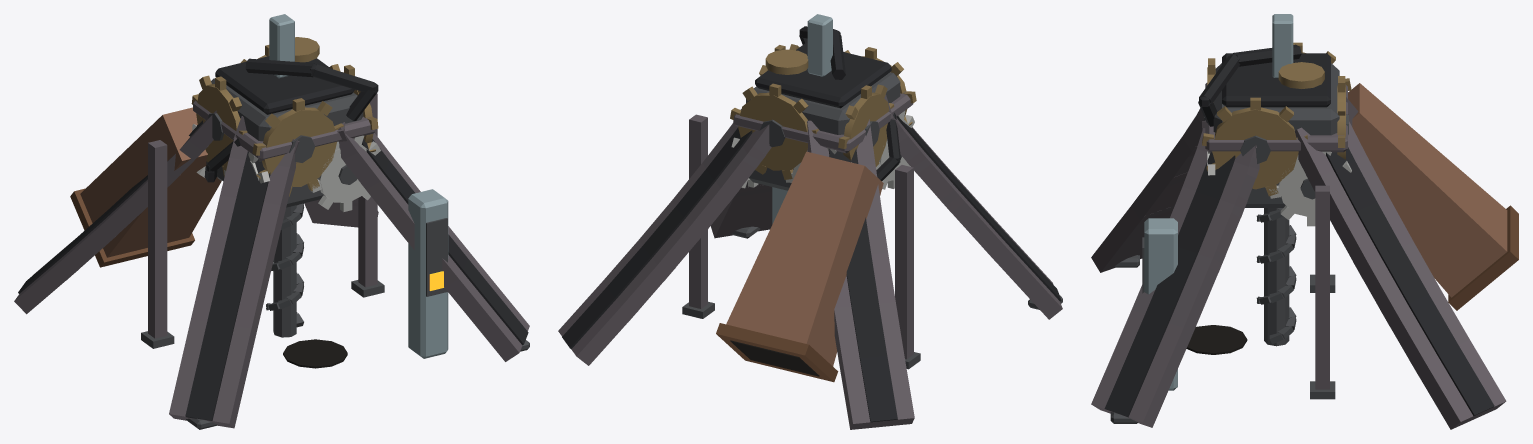
The model's file is burner-mining-drill.glb.
3 views of the same model, side by side, from view 1: azimuth 30°, elevation 25°; view 2: azimuth 150°, elevation 25°; view 3: azimuth 270°, elevation 25° (orthographic). The views are drawn at different scales.
Parts seen in each view (by area): view 1: body, anim_gear_bmd_ns_00, anim_spin_drill, anim_gear_bmd_ew_30, anim_gear_bmd_r_ns_01, anim_slide_bmd_rod, anim_gear_bmd_ew_10; view 2: body, anim_gear_bmd_ns_20, anim_gear_bmd_ew_30, anim_slide_bmd_rod, anim_gear_bmd_r_ew_31, anim_gear_bmd_ns_00; view 3: body, anim_gear_bmd_ew_10, anim_spin_drill, anim_gear_bmd_r_ew_11, anim_slide_bmd_rod, anim_gear_bmd_ns_20.
Boxes of the visible parts, bbox=[...] form: body: bbox=[14, 37, 529, 429]; anim_gear_bmd_ns_00: bbox=[252, 98, 343, 196]; anim_spin_drill: bbox=[266, 203, 304, 337]; anim_gear_bmd_ew_30: bbox=[191, 75, 247, 176]; anim_gear_bmd_r_ns_01: bbox=[310, 135, 380, 211]; anim_slide_bmd_rod: bbox=[269, 14, 294, 78]; anim_gear_bmd_ew_10: bbox=[329, 64, 378, 152]; body: bbox=[558, 26, 1062, 429]; anim_gear_bmd_ns_20: bbox=[730, 83, 818, 179]; anim_gear_bmd_ew_30: bbox=[838, 84, 894, 166]; anim_slide_bmd_rod: bbox=[807, 14, 832, 76]; anim_gear_bmd_r_ew_31: bbox=[876, 110, 914, 189]; anim_gear_bmd_ns_00: bbox=[844, 47, 916, 125]; body: bbox=[1091, 44, 1518, 429]; anim_gear_bmd_ew_10: bbox=[1202, 97, 1307, 196]; anim_spin_drill: bbox=[1256, 208, 1296, 346]; anim_gear_bmd_r_ew_11: bbox=[1269, 151, 1351, 226]; anim_slide_bmd_rod: bbox=[1272, 14, 1293, 77]; anim_gear_bmd_ns_20: bbox=[1337, 76, 1348, 159].
Bounding box in the file's own units: 2.08 × 1.7 × 2.04.
